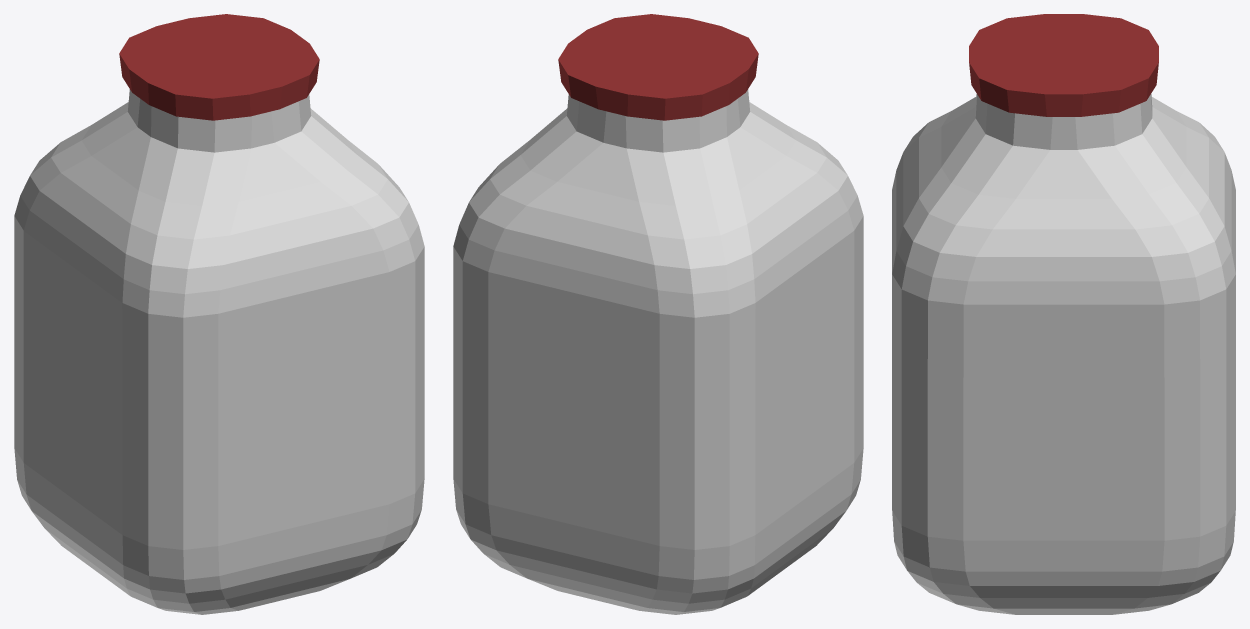
File: Jar.fbx
The picture shows the model from 3 angles, left to right: view 1: azimuth 30°, elevation 25°; view 2: azimuth 150°, elevation 25°; view 3: azimuth 270°, elevation 25°; orthographic projection.
Visible parts, largest first — view 1: Cube; view 2: Cube; view 3: Cube.
Boxes of the visible parts, bbox=[...] form: Cube: bbox=[14, 14, 424, 614]; Cube: bbox=[453, 14, 863, 614]; Cube: bbox=[892, 14, 1235, 614].
Size of the model in its own units: 0.3843 by 0.6278 by 0.3841.
